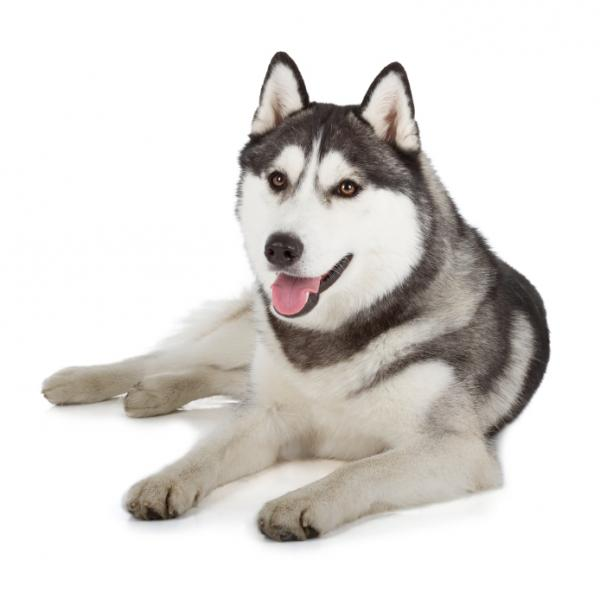husky: (47, 34, 555, 533)
